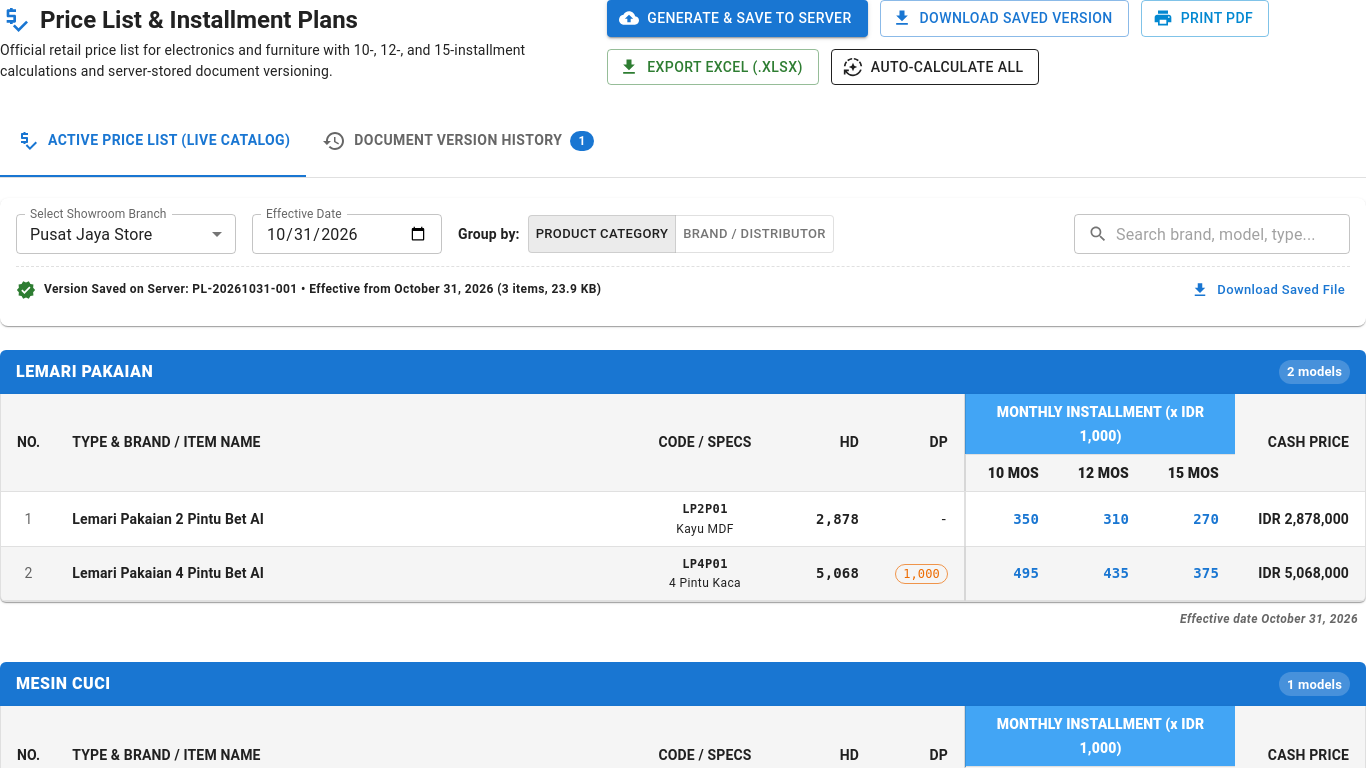
Test: PriceListPage › switches to Document Versioning tab and shows stored versions list
The image size is (1366, 768).
Click the text "Document Version History": (458, 141) [354, 132, 562, 150]
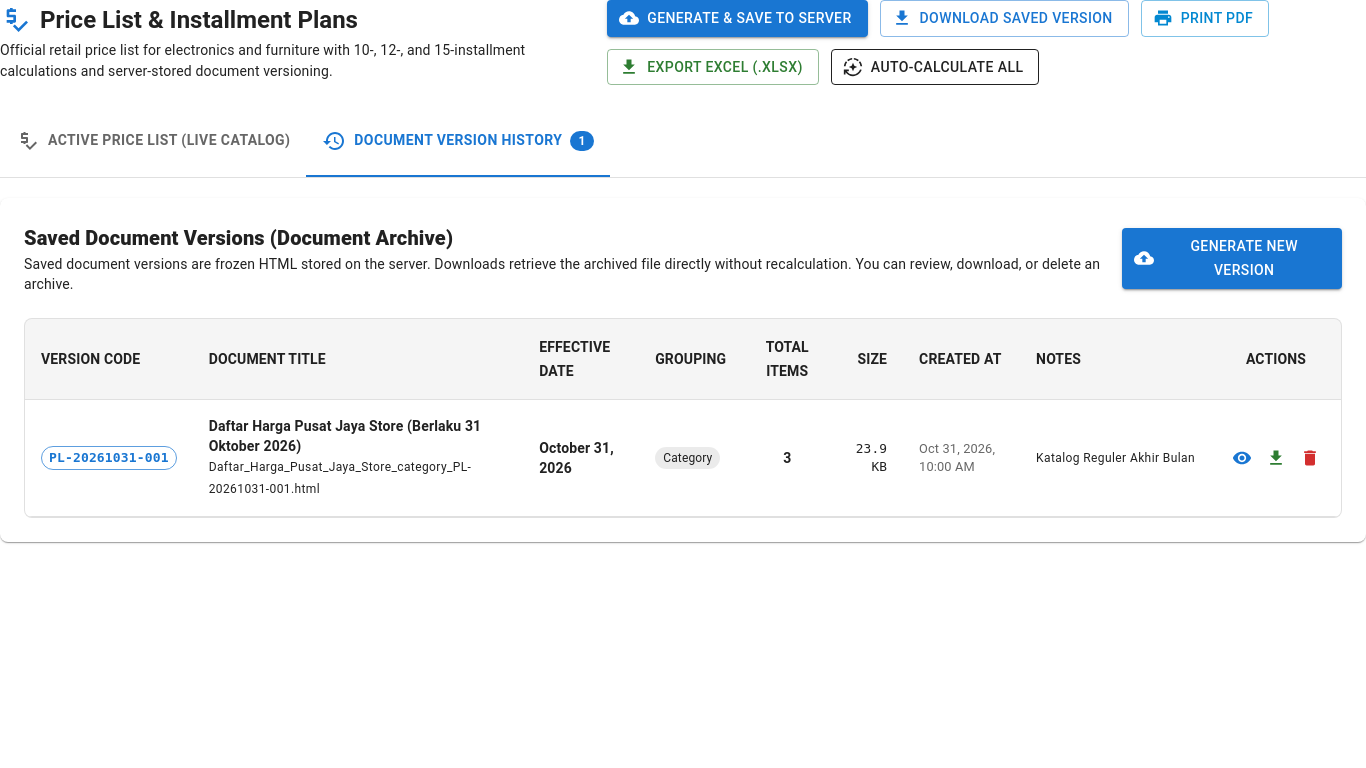
Check: the heading "Saved Document Versions (Document Archive)" is shown, box [24, 226, 453, 250]
Check: the text "PL-20261031-001" is shown, box [42, 448, 176, 468]
Check: the text "Katalog Reguler Akhir Bulan" is shown, box [1036, 451, 1195, 465]
